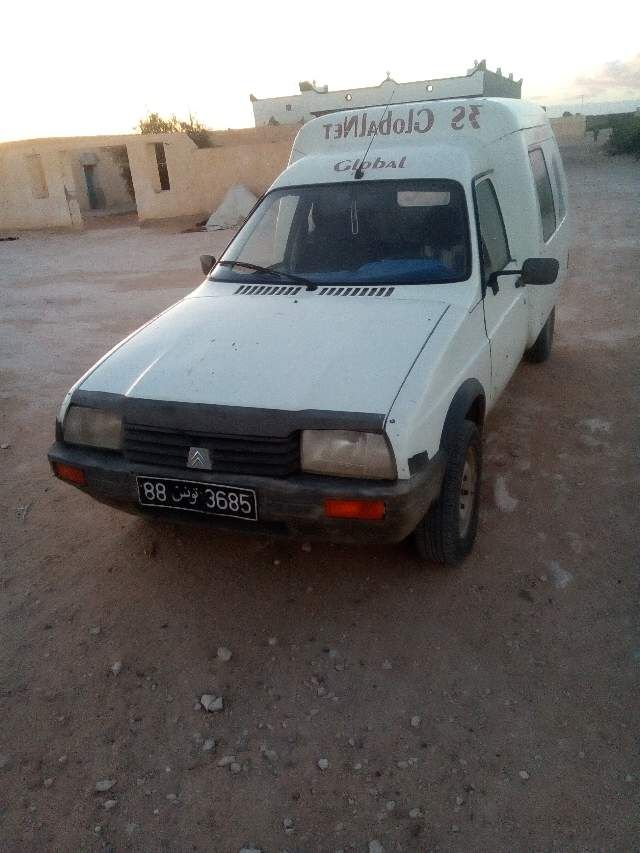LP: (133, 474, 260, 523)
